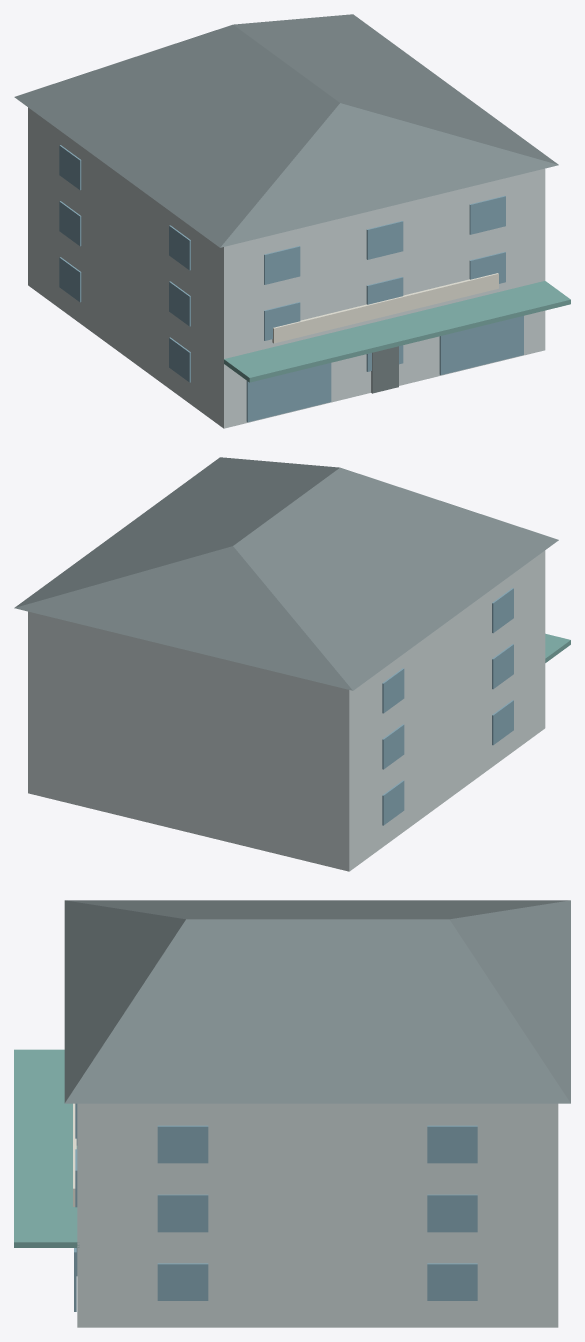
3 renders of one model, top to bottom at view 1: azimuth 30°, elevation 25°; view 2: azimuth 150°, elevation 25°; view 3: azimuth 270°, elevation 25°, orthographic. The views are drawn at different scales.
Size of the model in its own units: 19 by 13.6 by 22.
